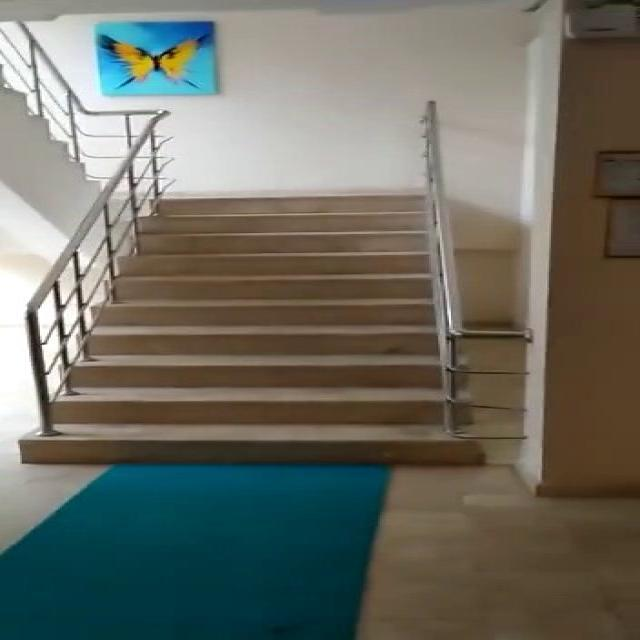stair: (11, 199, 515, 472)
